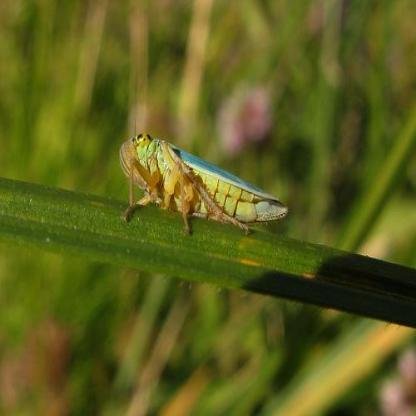Green-Leafhopper: (117, 126, 292, 241)
